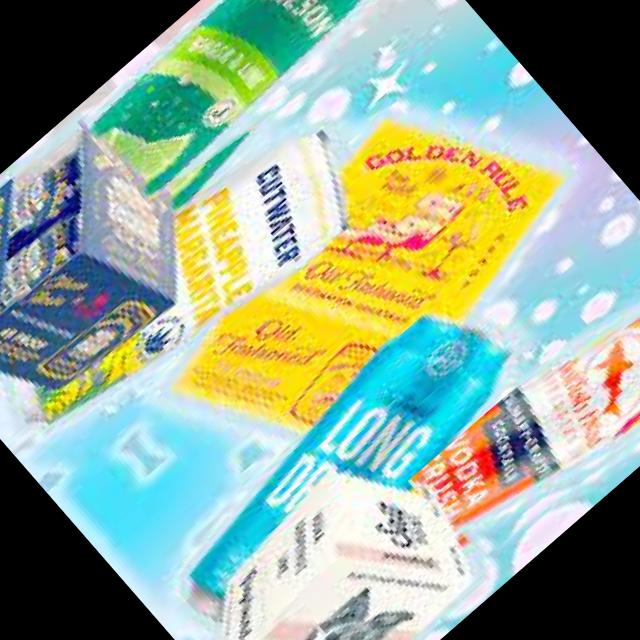Cans: (76, 0, 423, 226), (405, 277, 640, 577)
